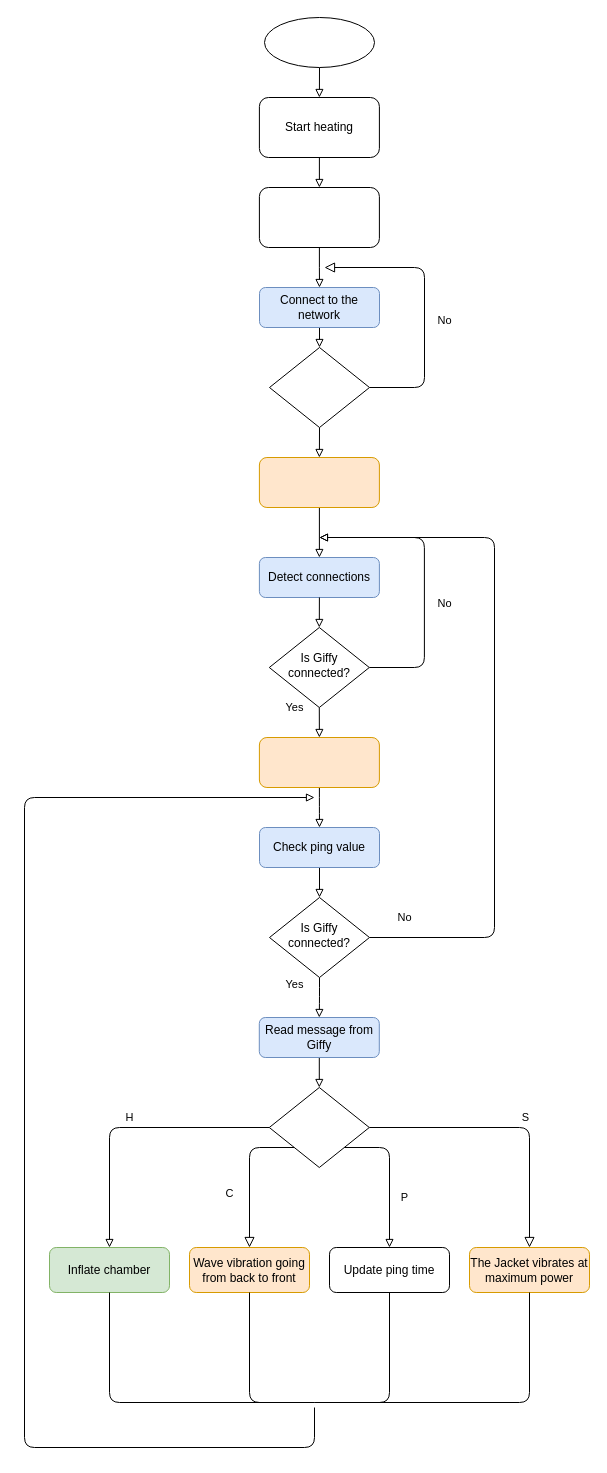
The diagram is 607 pixels wide and 1473 high, and some of its shapes have lost their labels. Here are the shapes that lost their labels. From the top down, the centre of each, then its label:
(x=319, y=42): START
(x=318, y=217): Read the SSID and Password from Bluetooth connection
(x=319, y=387): Is connected?
(x=318, y=482): Make 2 consecutive vibrations on the left side
(x=318, y=762): Make 2 consecutive vibrations on the right side
(x=318, y=1127): Actions (received by msg)
